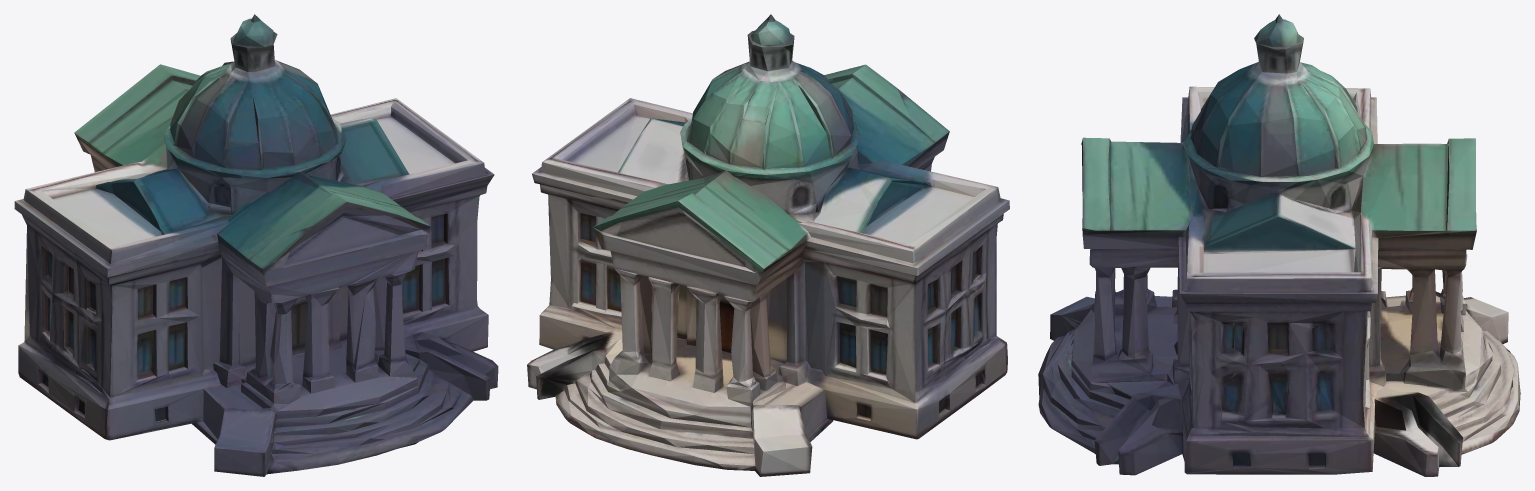
File: b-library.glb
3 renders of one model, left to right at view 1: azimuth 30°, elevation 25°; view 2: azimuth 150°, elevation 25°; view 3: azimuth 270°, elevation 25°, orthographic. The views are drawn at different scales.
Visible parts, largest first — view 1: geometry_0; view 2: geometry_0; view 3: geometry_0.
Part boxes in pixels (x1=…): geometry_0: x1=14, y1=14, x2=498, y2=476; geometry_0: x1=527, y1=14, x2=1009, y2=476; geometry_0: x1=1038, y1=14, x2=1520, y2=476.
Bounding box in the file's own units: 0.9689 × 0.8649 × 0.9987.
1 material, 1 textured.
